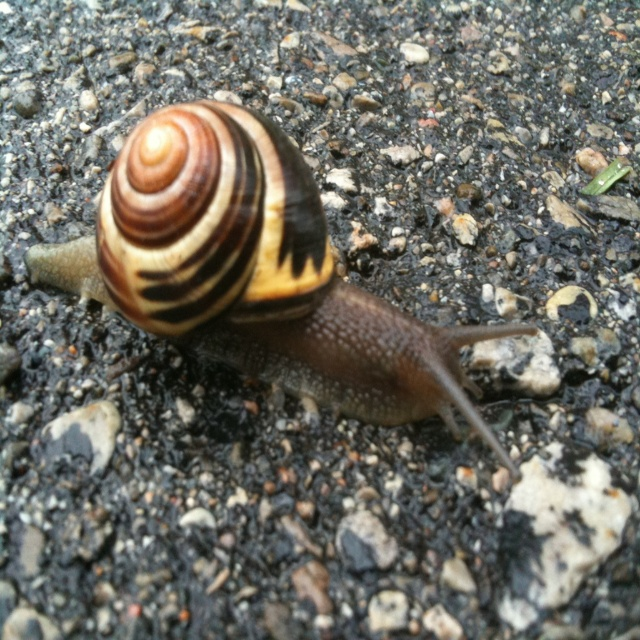Snail: (23, 99, 538, 484)
